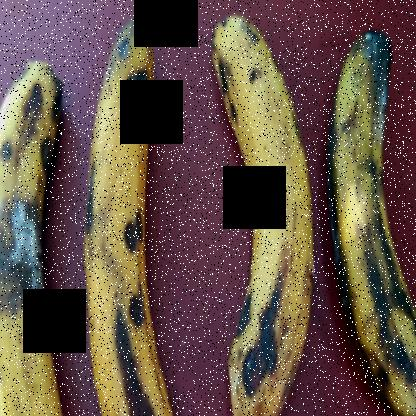overripe: (199, 17, 325, 415), (73, 12, 195, 415)
rotten: (317, 18, 415, 415), (0, 55, 79, 415)
